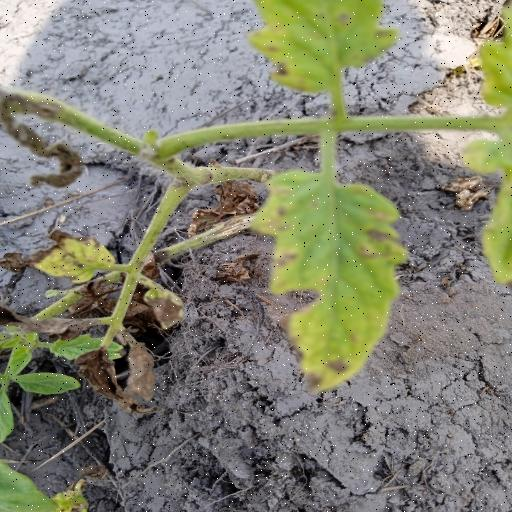Tomato_Brown_Spots: (250, 158, 412, 401)
